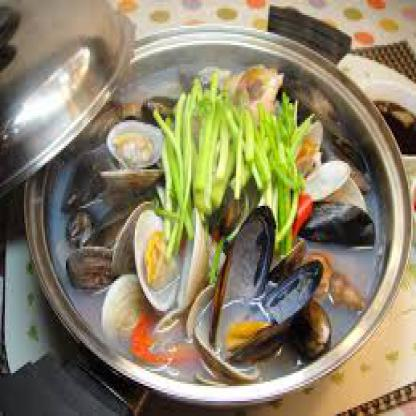shellfish soup: (45, 54, 382, 388)
